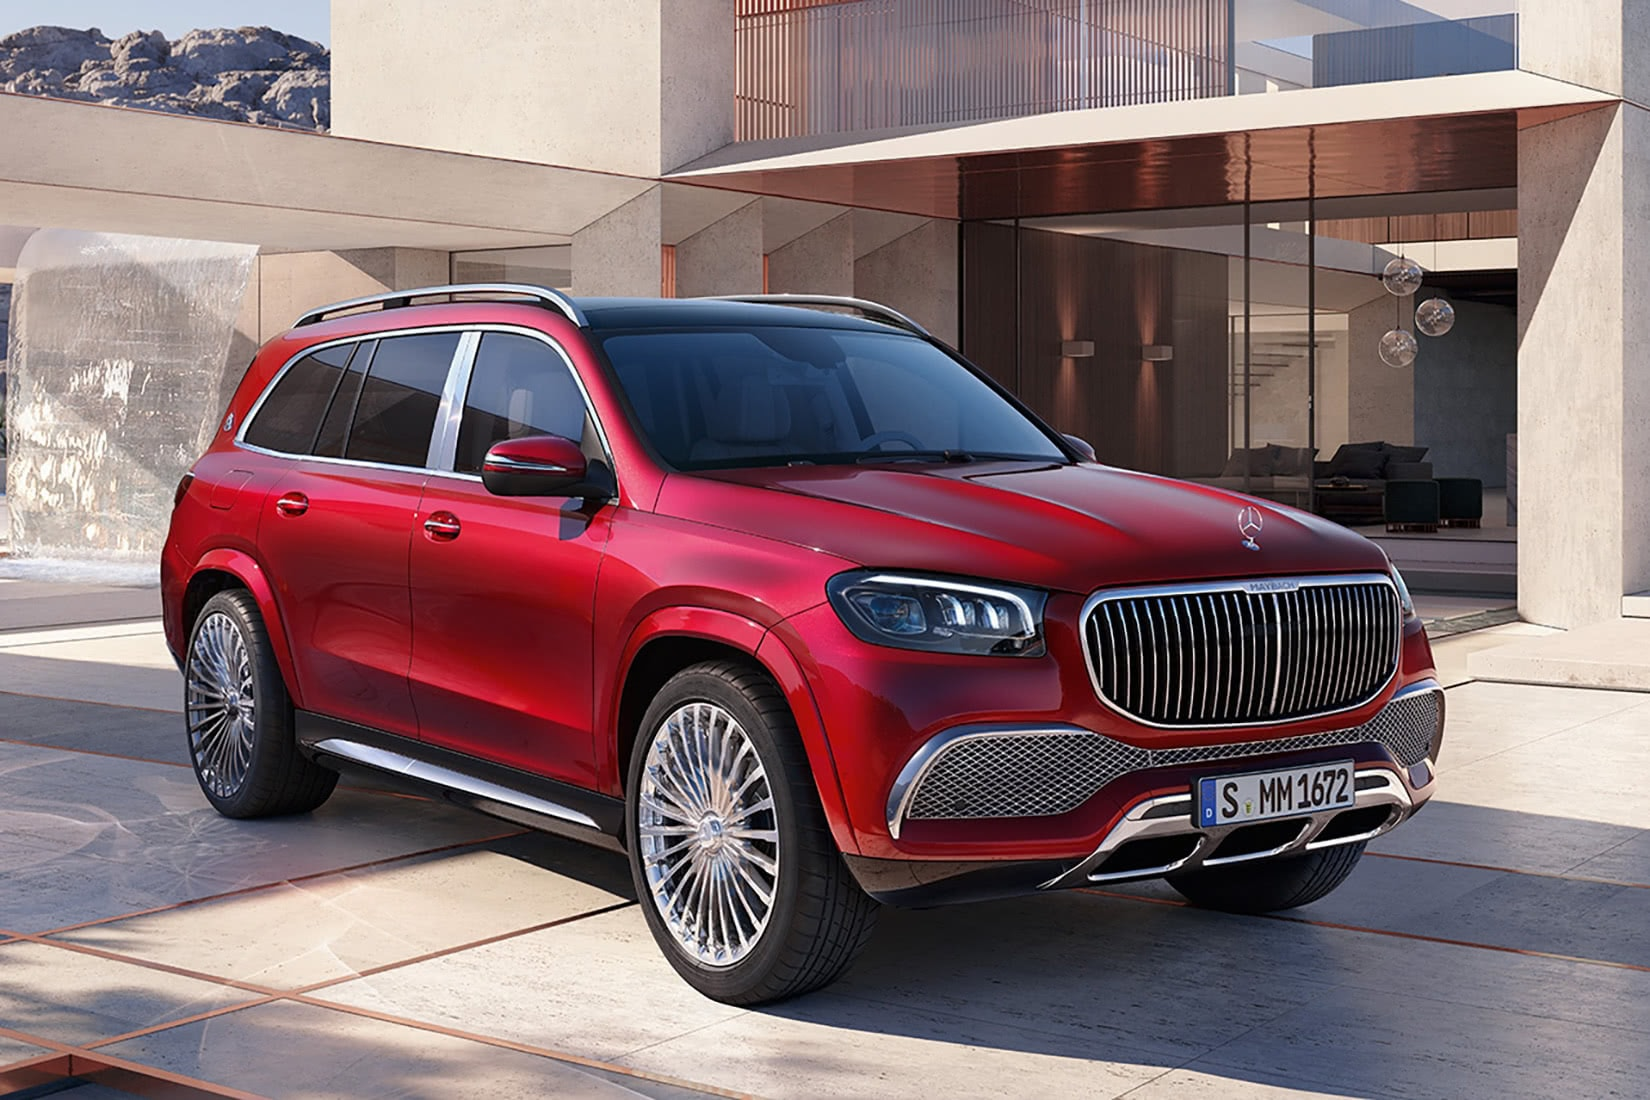car: (160, 281, 1447, 1009)
